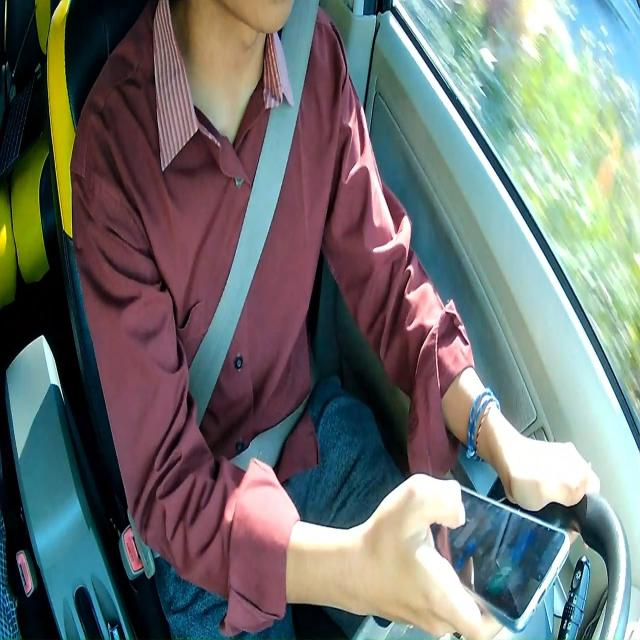phone: (429, 482, 572, 634)
